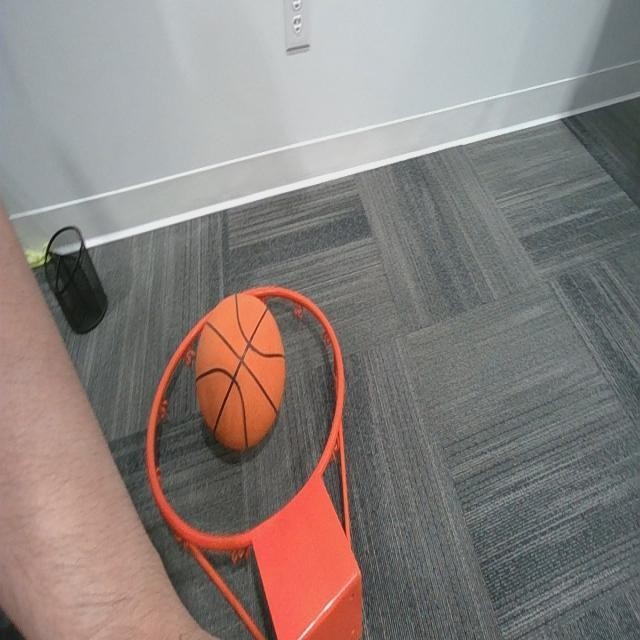hoop: (93, 312, 456, 640)
